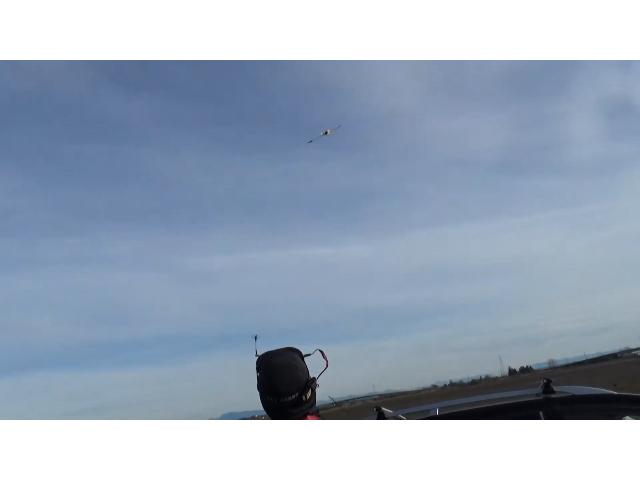Anti-Drone: (308, 125, 342, 145)
